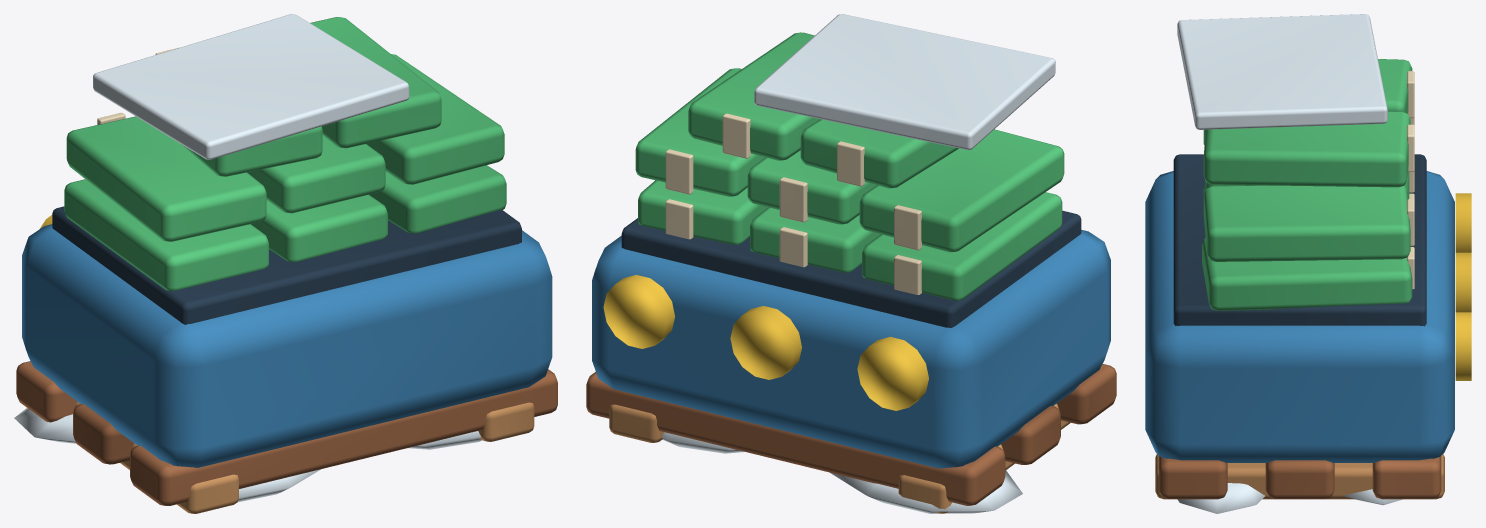
The model's file is money_stack.glb.
3 views of the same model, side by side, from view 1: azimuth 30°, elevation 25°; view 2: azimuth 150°, elevation 25°; view 3: azimuth 270°, elevation 25° (orthographic). The views are drawn at different scales.
Parts seen in each view (by area): view 1: money_stack; view 2: money_stack; view 3: money_stack.
Part boxes in pixels (x1=…): money_stack: x1=14, y1=14, x2=557, y2=513; money_stack: x1=586, y1=14, x2=1116, y2=513; money_stack: x1=1145, y1=14, x2=1471, y2=513.
Size of the model in its own units: 1.32 by 1.1 by 0.9275.
